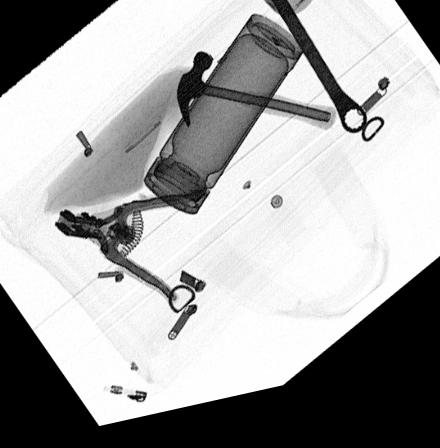Hammer: (172, 58, 335, 144)
Pliers: (51, 194, 209, 313)
Wrench: (255, 0, 368, 152)
